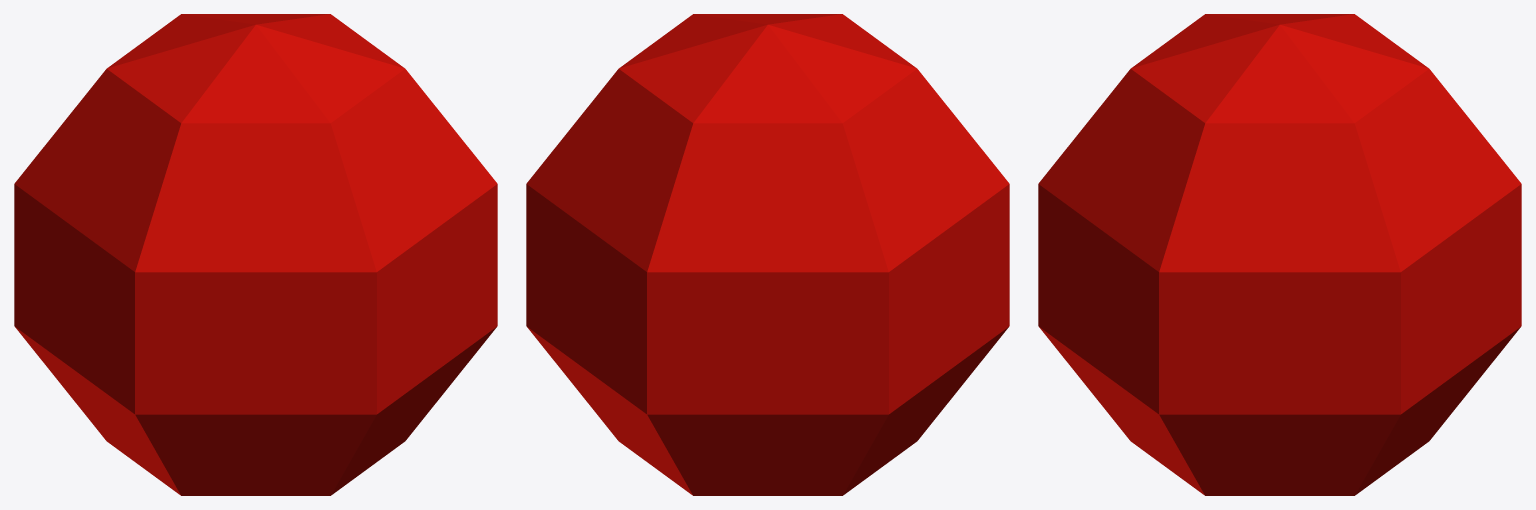
The model's file is Tiro.fbx.
3 renders of one model, left to right at view 1: azimuth 30°, elevation 25°; view 2: azimuth 150°, elevation 25°; view 3: azimuth 270°, elevation 25°, orthographic.
Parts seen in each view (by area): view 1: Tiro; view 2: Tiro; view 3: Tiro.
Part boxes in pixels (<box>): Tiro: <box>14,14,497,495</box>; Tiro: <box>526,14,1009,495</box>; Tiro: <box>1038,14,1521,495</box>.
Size of the model in its own units: 966 by 1173 by 1116.
